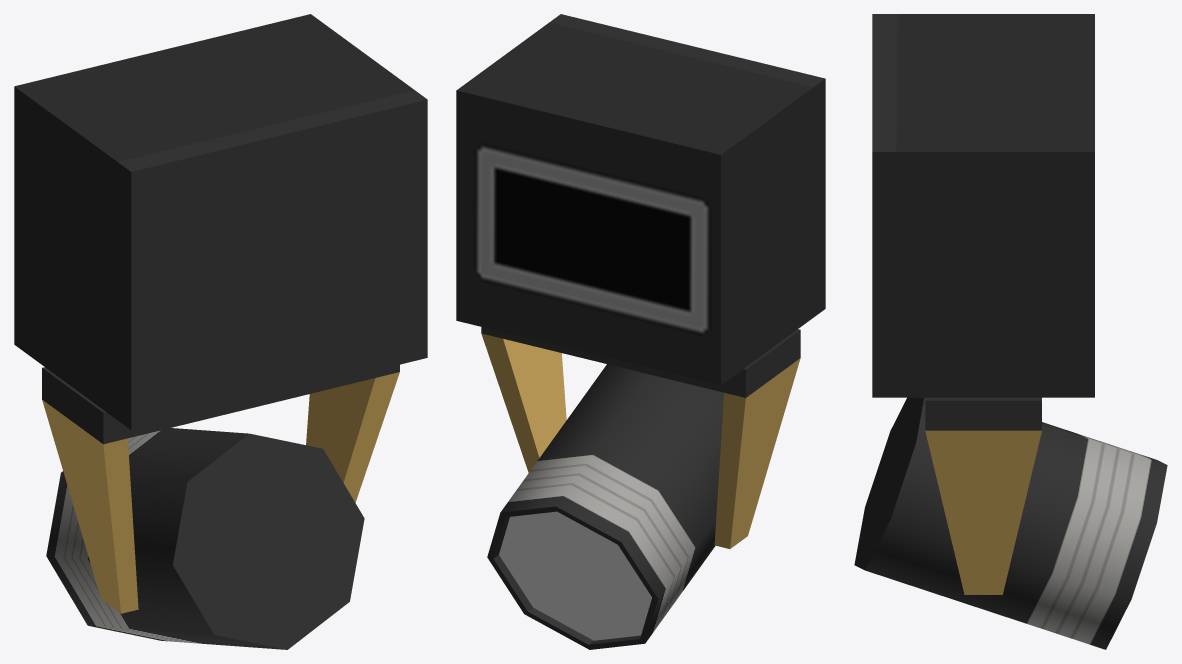
Rendered from Wembley_Light.fbx.
The picture shows the model from 3 angles, left to right: view 1: azimuth 30°, elevation 25°; view 2: azimuth 150°, elevation 25°; view 3: azimuth 270°, elevation 25°; orthographic projection. The views are drawn at different scales.
Parts seen in each view (by area): view 1: Wembley_Light; view 2: Wembley_Light; view 3: Wembley_Light.
Boxes of the visible parts, bbox=[...] form: Wembley_Light: bbox=[14, 14, 427, 649]; Wembley_Light: bbox=[456, 14, 825, 649]; Wembley_Light: bbox=[854, 14, 1167, 649].
Bounding box in the file's own units: 1.28 × 2.44 × 1.23.
